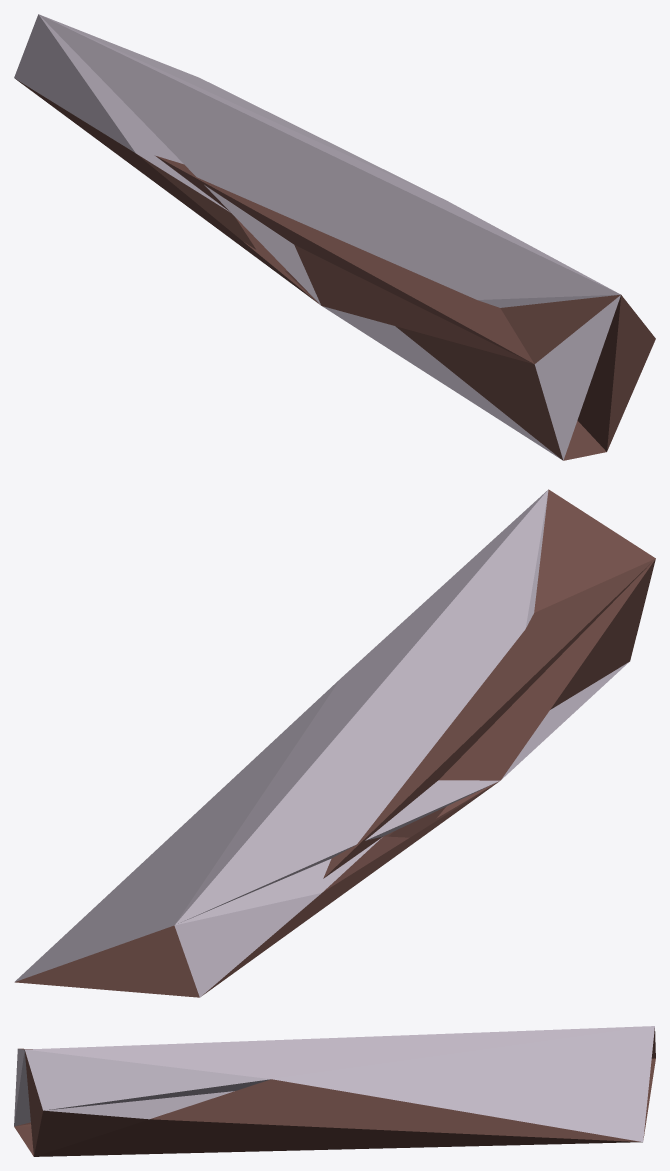
Rendered from WoodLog_Snow.lod3.glb.
3 views of the same model, one above another, from view 1: azimuth 30°, elevation 25°; view 2: azimuth 150°, elevation 25°; view 3: azimuth 270°, elevation 25° (orthographic). The views are drawn at different scales.
Parts seen in each view (by area): view 1: WoodLog_Snow; view 2: WoodLog_Snow; view 3: WoodLog_Snow.
Boxes of the visible parts, x1,y1,x2,y2 form: WoodLog_Snow: (14,14,655,460); WoodLog_Snow: (14,489,655,997); WoodLog_Snow: (14,1026,655,1156).
Bounding box in the file's own units: 0.5998 × 0.4717 × 2.49.
